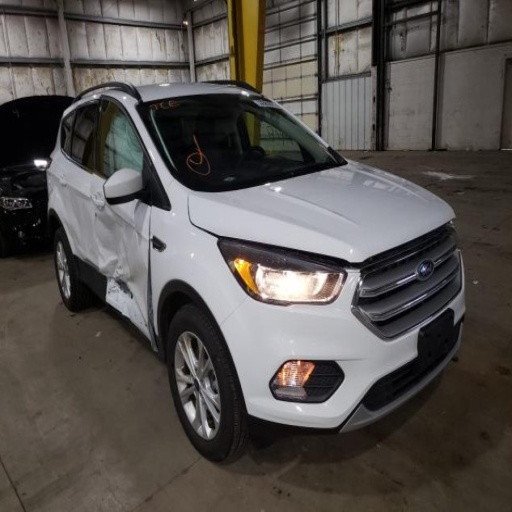dent: (57, 172, 153, 345)
